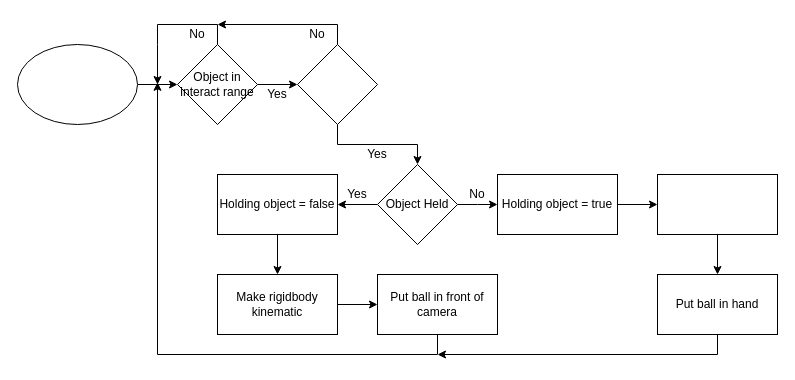
This 795x380 diagram has some shape labels left out. The shapes that lost their labels are listed below. From the top down, each one's box as (x1, y1, x2, y2) in pixels, then its label:
(16, 44, 138, 124): START
(296, 44, 378, 124): Interact button pressed
(656, 174, 778, 234): Make rigidbody non- kinematic
